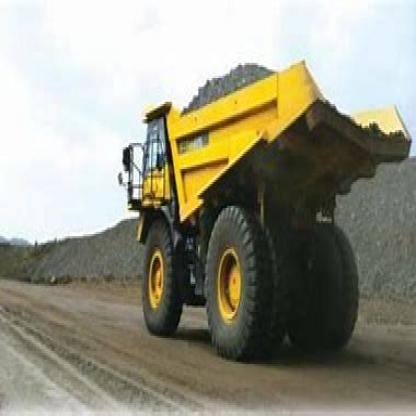dump_truck: (117, 54, 408, 349)
